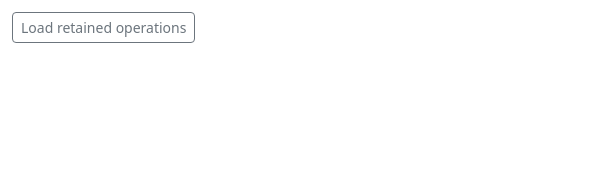
Scenario: Retained recovery never replaces a missing result or changed view context › keeps load failures explicit and renders no controls without a product
The image size is (591, 172).
Click the button "Load retained operations". click: (104, 28)
box: [12,12,196,43]
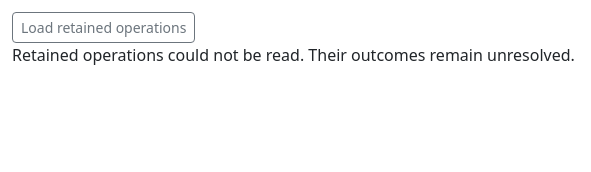
Result: the message "Retained operations could not be read. Their outcomes remain unresolved." is shown at [12,44,575,66]
